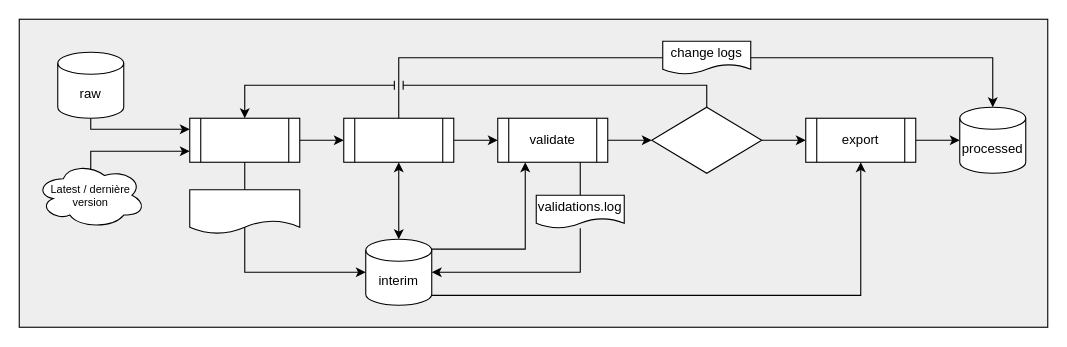
This 1067x347 diagram has some shape labels left out. Each missing label, with the centre of its shape:
<source>.gpkg <source>_old.gpkg: the point at 244,211
confirm: the point at 398,139
conform: the point at 244,139
data modified / données modifiées?: the point at 706,139
